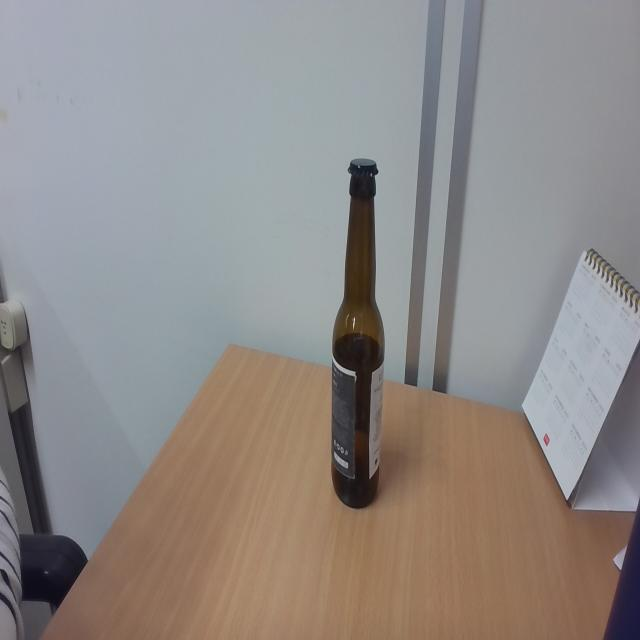Bottle: (332, 156, 385, 511)
Cap: (344, 156, 382, 181)
Label: (331, 361, 385, 480)
